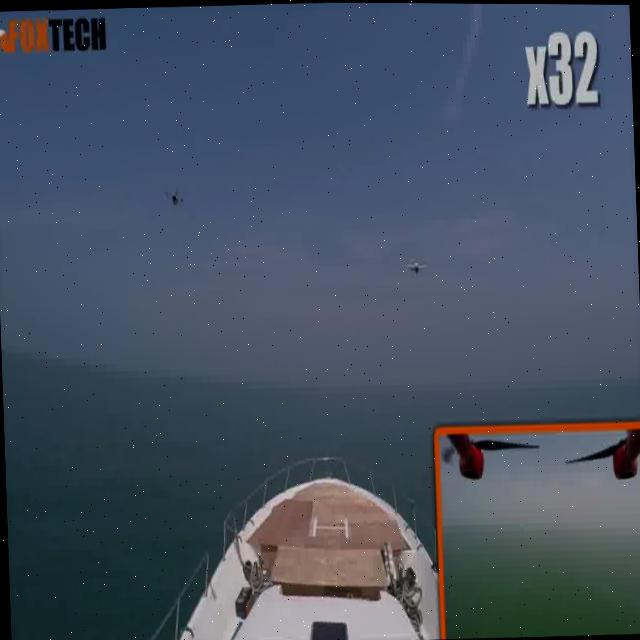drone: (148, 161, 196, 226), (392, 246, 436, 288)
